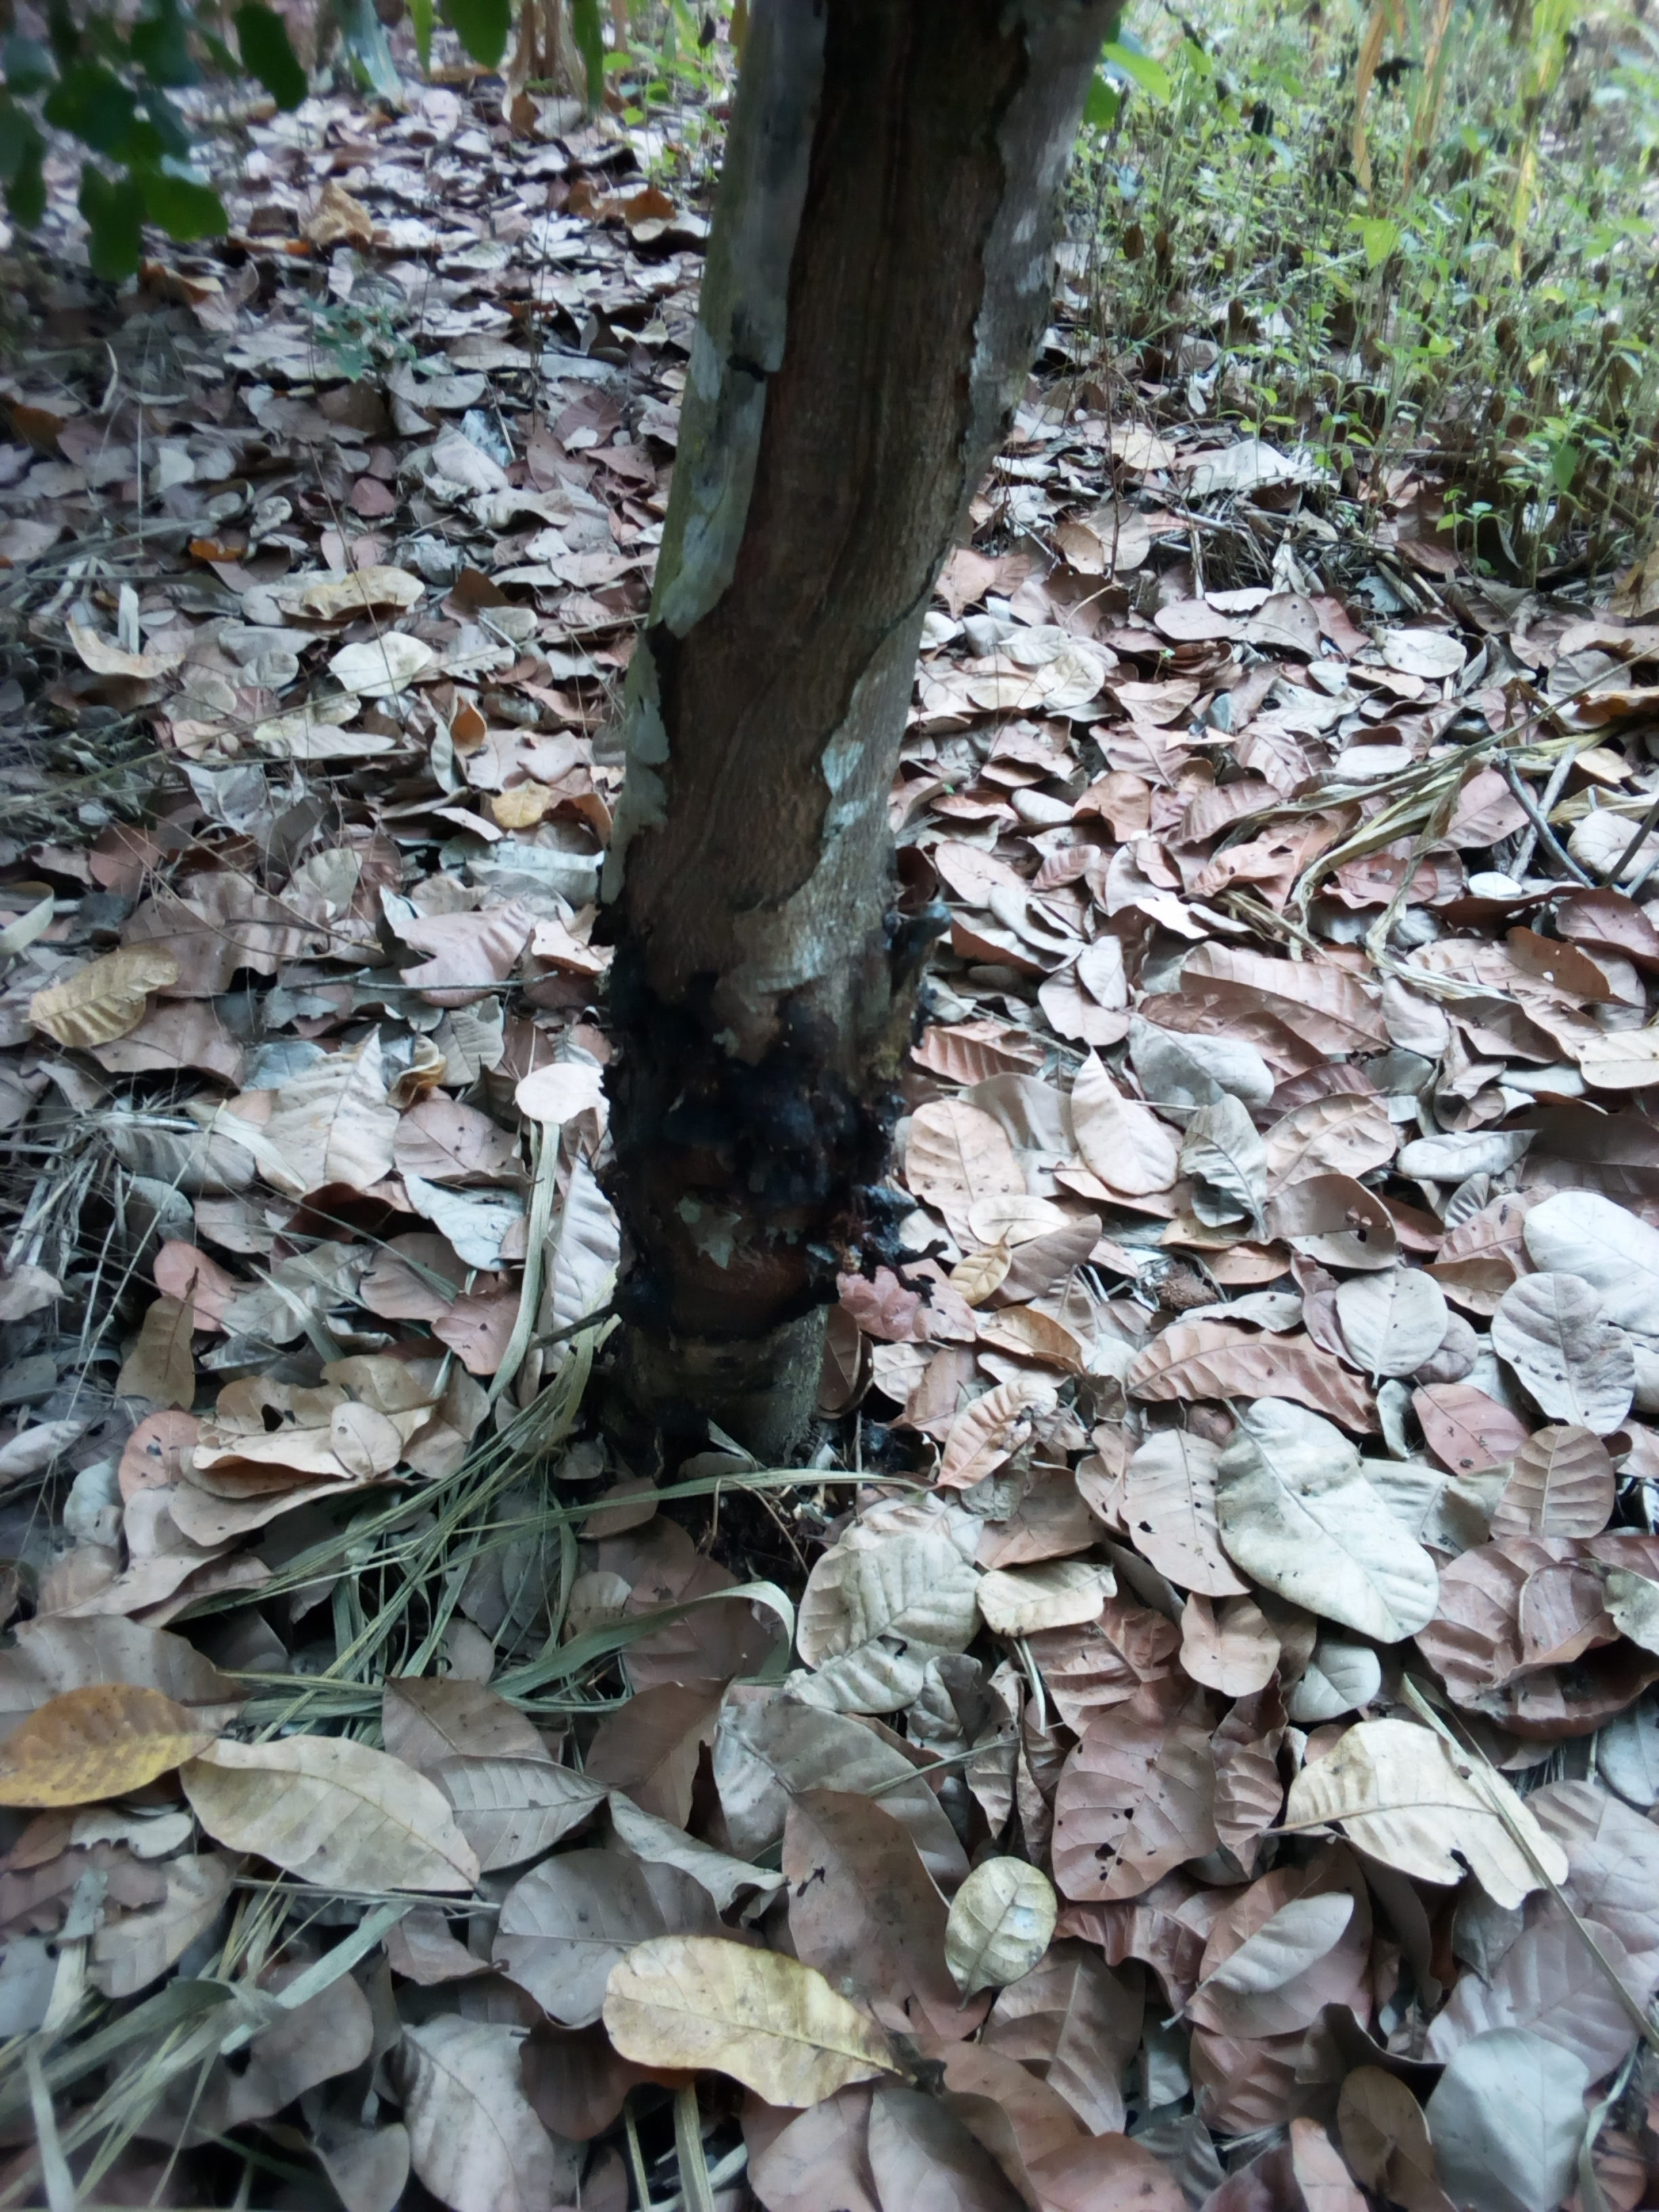Mecocorynus longiceps: (626, 956, 983, 1364)
